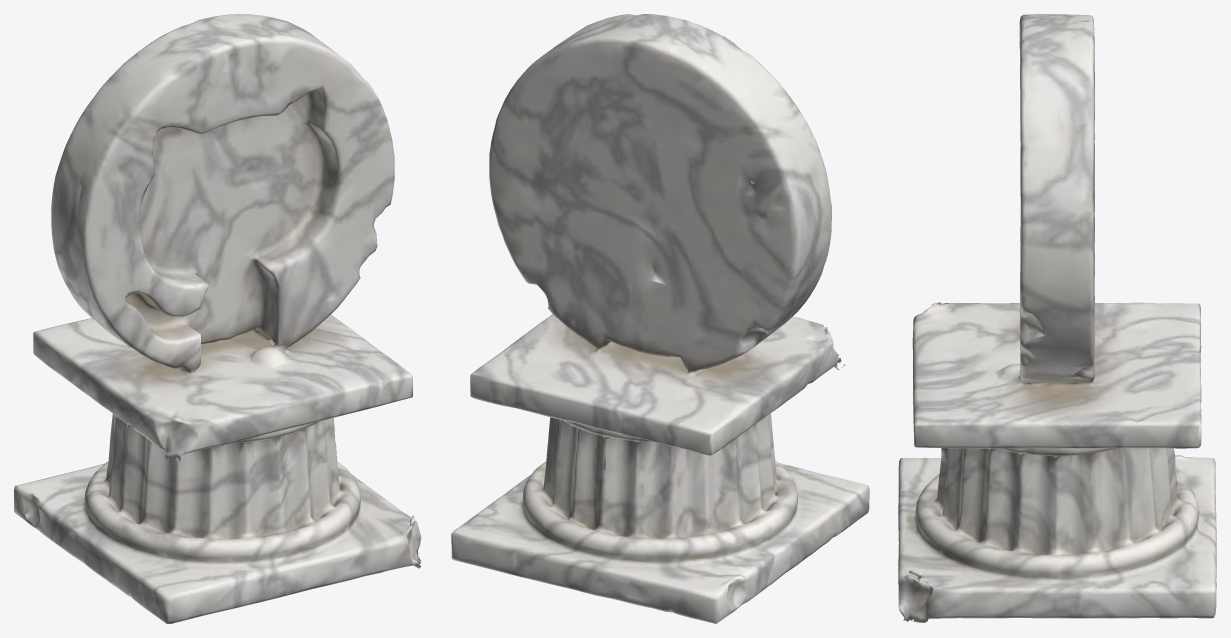
Rendered from mark-github.glb.
The picture shows the model from 3 angles, left to right: view 1: azimuth 30°, elevation 25°; view 2: azimuth 150°, elevation 25°; view 3: azimuth 270°, elevation 25°; orthographic projection. The views are drawn at different scales.
Visible parts, largest first — view 1: mark; view 2: mark; view 3: mark.
Part boxes in pixels (x1,y1,x2,y2): mark: (14, 14, 421, 623); mark: (451, 14, 869, 623); mark: (898, 14, 1216, 622).
Size of the model in its own units: 1 by 1.58 by 0.8634.
1 material, 1 textured.
